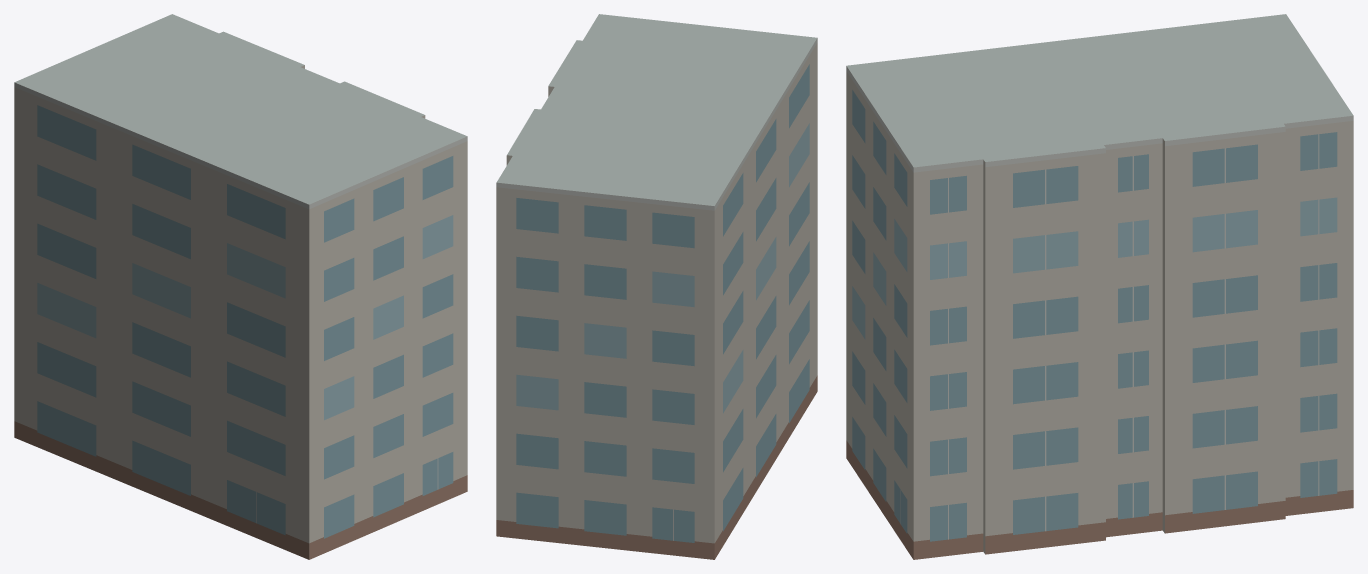
The model's file is survey-upis-32661561.glb.
3 renders of one model, left to right at view 1: azimuth 30°, elevation 25°; view 2: azimuth 150°, elevation 25°; view 3: azimuth 270°, elevation 25°, orthographic. The views are drawn at different scales.
Parts seen in each view (by area): view 1: survey-upis-32661561.tmp; view 2: survey-upis-32661561.tmp; view 3: survey-upis-32661561.tmp.
Part boxes in pixels (left/top/right/bottom): survey-upis-32661561.tmp: left=14, top=14, right=467, bottom=559; survey-upis-32661561.tmp: left=496, top=14, right=817, bottom=559; survey-upis-32661561.tmp: left=846, top=14, right=1353, bottom=559.
Size of the model in its own units: 15.62 by 18.6 by 21.81.
